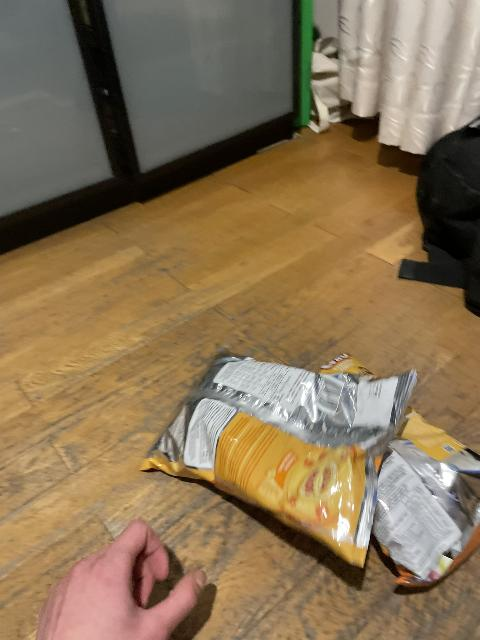Chio Cascaval 125g: (291, 353, 480, 594)
Chio Hula Hoops Cheese 70g: (147, 353, 411, 573)
